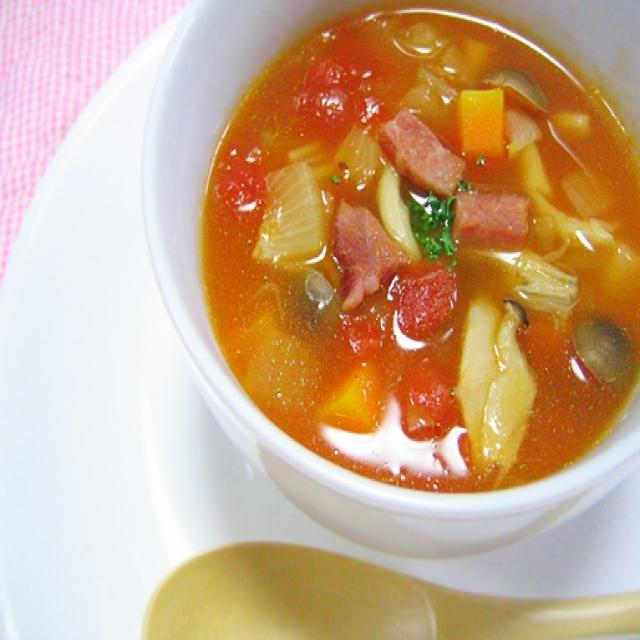熟制海鲜: (475, 76, 640, 630)
米饭主食: (87, 517, 640, 640)
